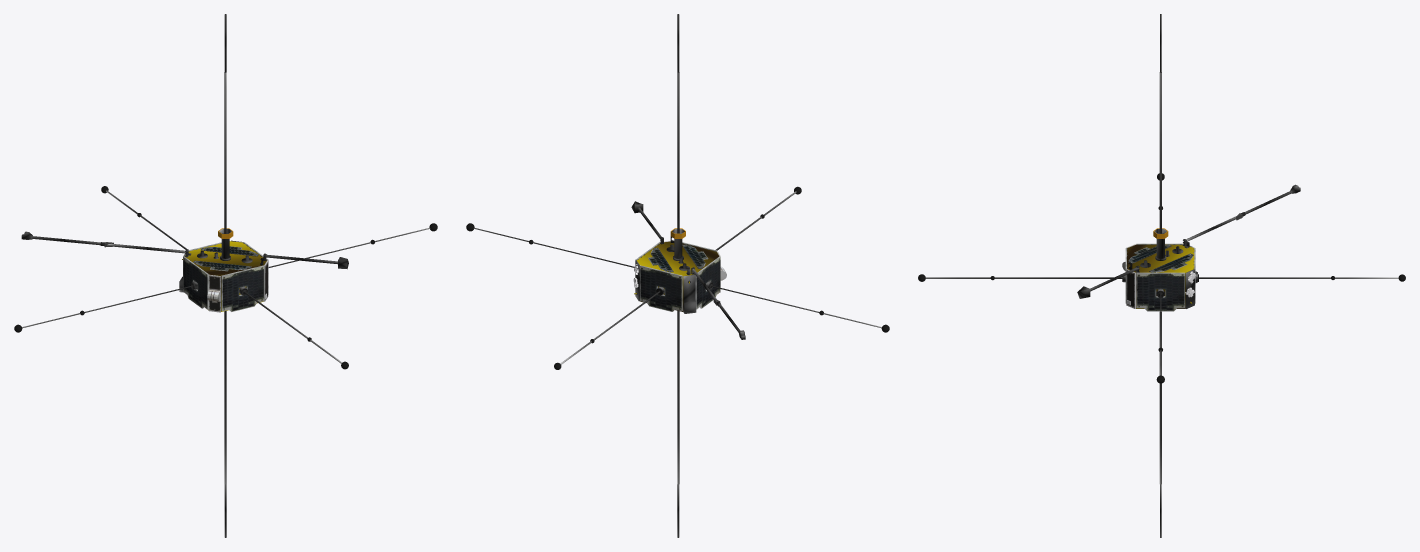
Rendered from time-history-of-events-and-macroscale-interactio.glb.
3 renders of one model, left to right at view 1: azimuth 30°, elevation 25°; view 2: azimuth 150°, elevation 25°; view 3: azimuth 270°, elevation 25°, orthographic.
Visible parts, largest first — view 1: foil_silver, shiny_panel, foil_gold; view 2: foil_silver, shiny_panel, foil_gold; view 3: foil_silver, shiny_panel, foil_gold.
Part boxes in pixels (x1,y1,x2,y2): foil_silver: (14, 14, 437, 537); shiny_panel: (183, 228, 268, 312); foil_gold: (182, 241, 266, 311); foil_silver: (466, 14, 889, 537); shiny_panel: (633, 228, 726, 311); foil_gold: (634, 241, 719, 311); foil_silver: (918, 14, 1405, 537); shiny_panel: (1122, 228, 1195, 311); foil_gold: (1127, 244, 1194, 308).
Bounding box in the file's own units: 6.09 × 7.21 × 6.09.
Materials: 3 (3 with a texture image).
